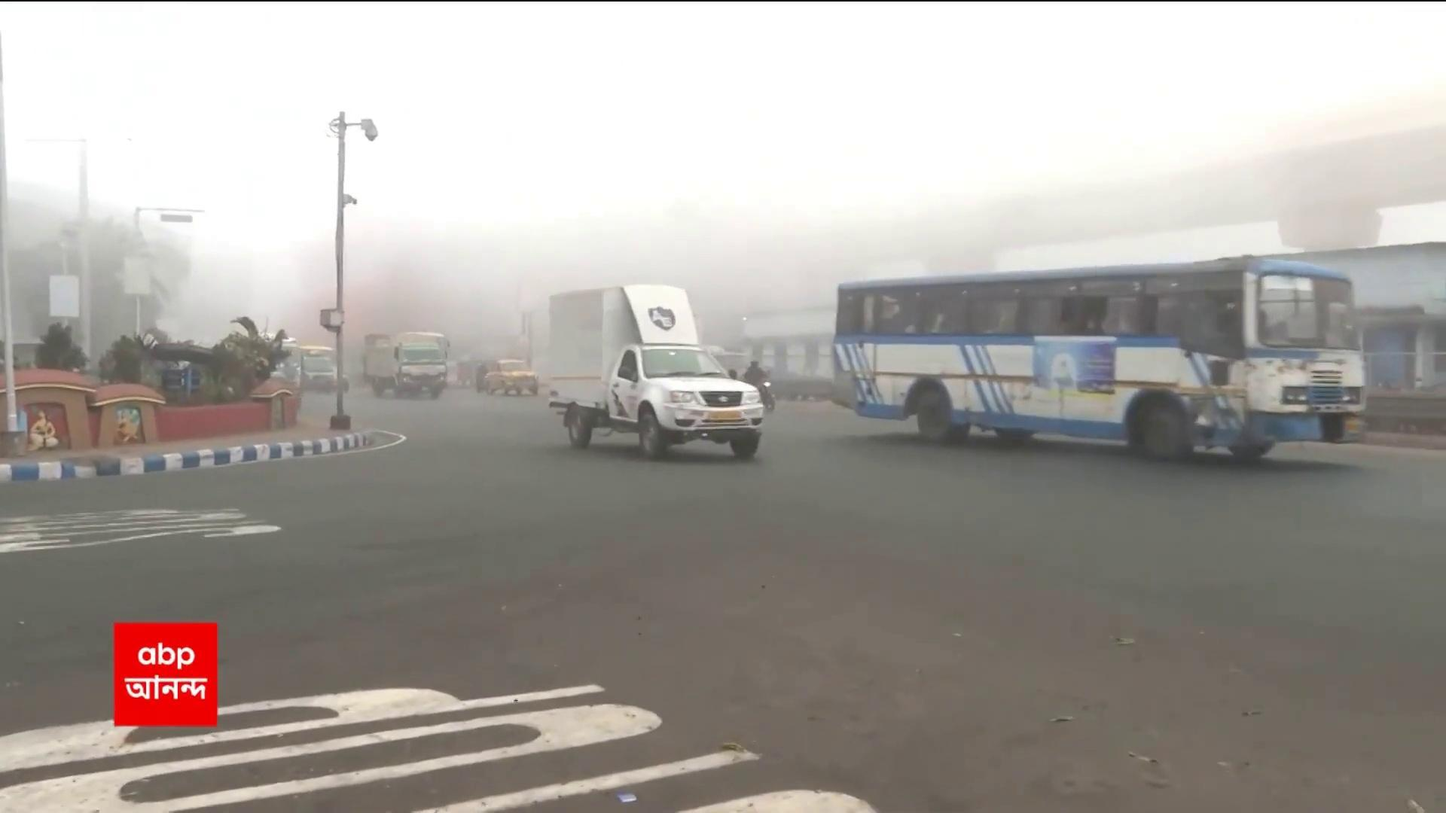Bus: (828, 256, 1369, 461)
Car: (481, 358, 542, 396)
Truck: (546, 284, 765, 462), (365, 341, 449, 399)
